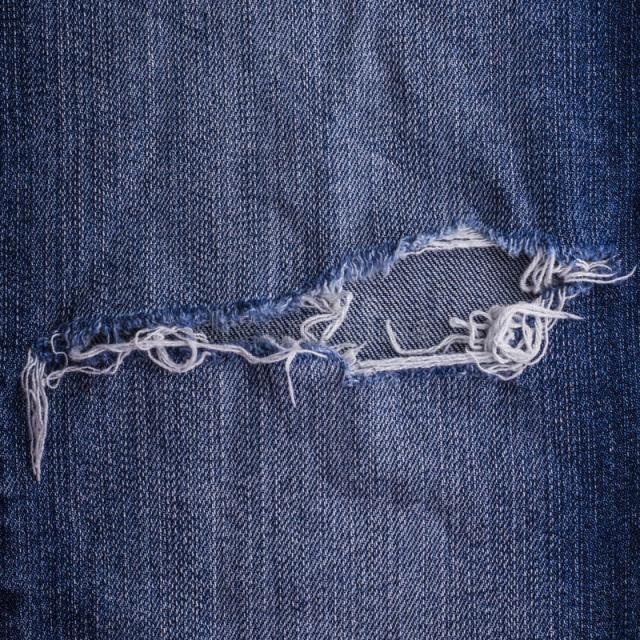Hole: (21, 223, 636, 480)
